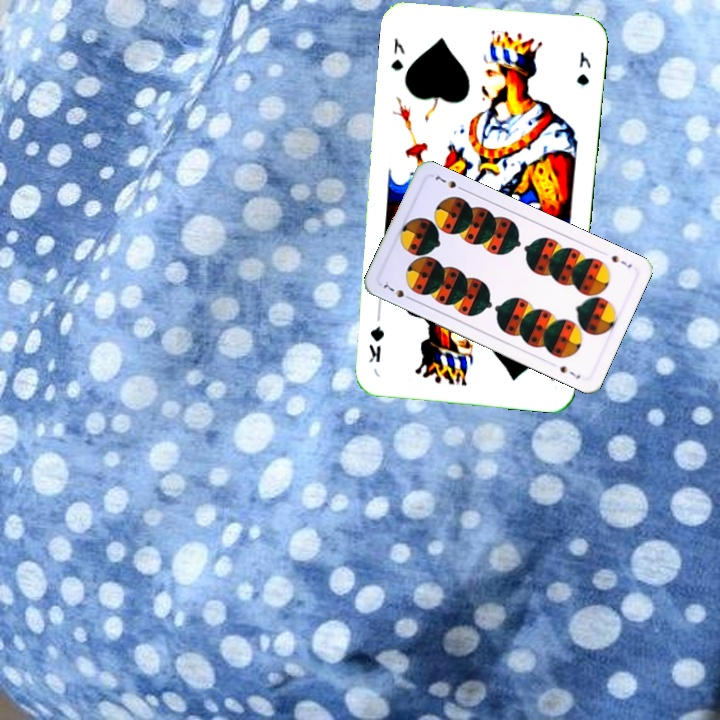GK: (387, 34, 407, 73)
S7: (379, 277, 416, 303), (607, 251, 634, 270)
